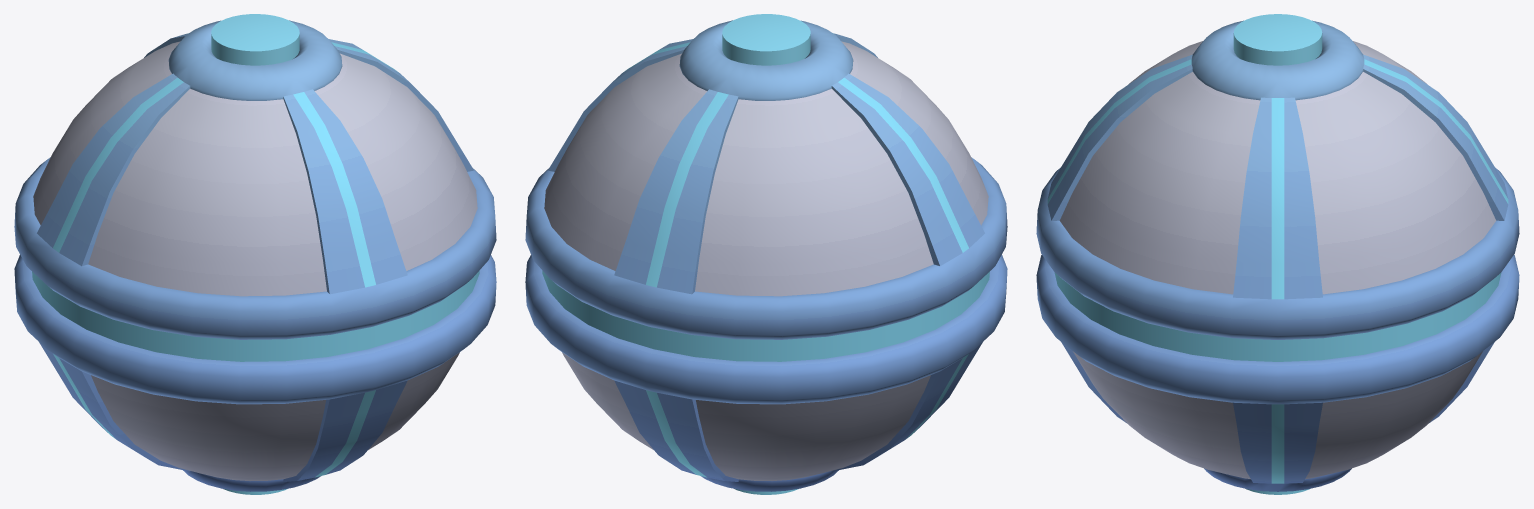
The model's file is sm_energycore.fbx.
3 views of the same model, side by side, from view 1: azimuth 30°, elevation 25°; view 2: azimuth 150°, elevation 25°; view 3: azimuth 270°, elevation 25° (orthographic).
Parts seen in each view (by area): view 1: Sphere; view 2: Sphere; view 3: Sphere.
Part boxes in pixels (x1,y1,x2,y2): Sphere: (14,14,496,494); Sphere: (525,14,1007,494); Sphere: (1036,14,1519,494).
Size of the model in its own units: 21.29 by 21.29 by 21.99.
